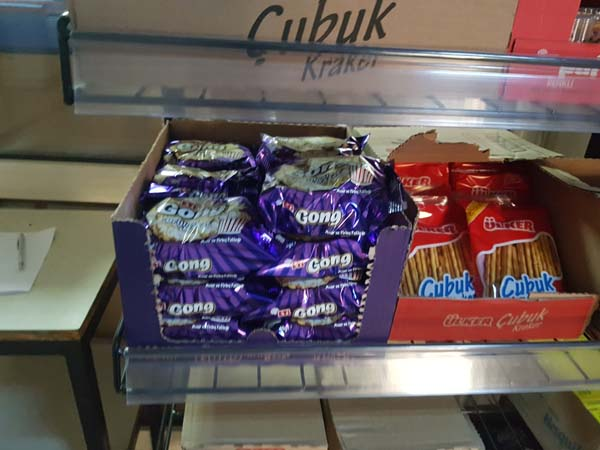eticubuk: (473, 196, 569, 296), (395, 196, 470, 299)
etigong: (266, 164, 379, 241), (152, 195, 257, 238)
